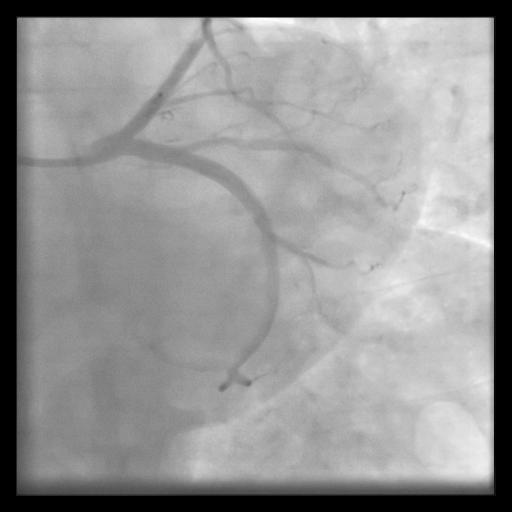Stenosis: (189, 133, 241, 151)
